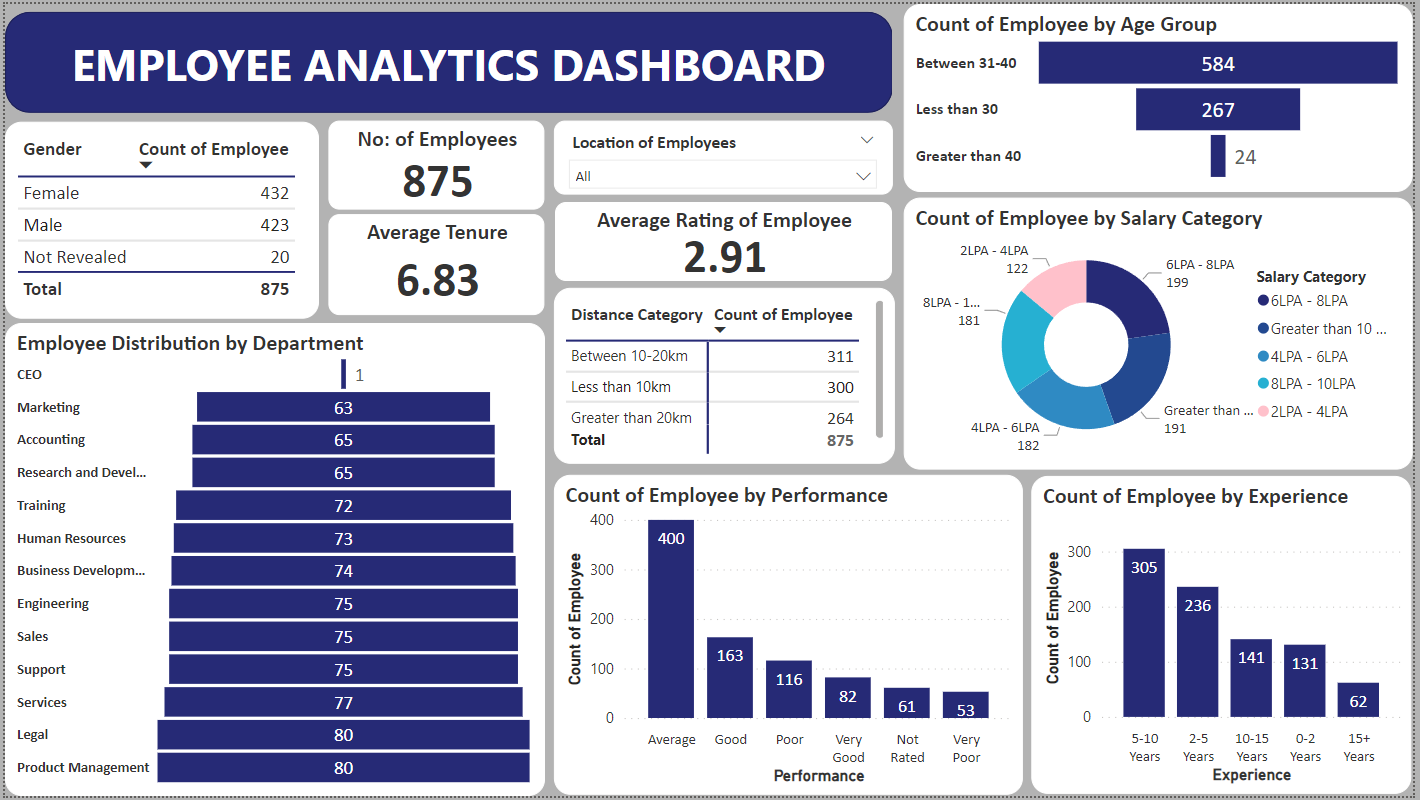

The page's visual inventory and layout, read from the dashboard file:
{"tool":"powerbi","page":{"name":"Page 1","canvas":[1280,720],"ordinal":0},"visuals":[{"type":"columnChart","fields":{"Category":["HR_Data.Performance"],"Y":["HR_Data.Name"]},"box":[499.5,427.7,426.4,290.9],"z":0},{"type":"funnel","title":"Employee  Distribution by Department","fields":{"Category":["HR_Data.Department"],"Y":["HR_Data.Name"]},"box":[0,290.1,490.8,430.3],"z":1000},{"type":"clusteredColumnChart","fields":{"Category":["HR_Data.Experience"],"Y":["HR_Data.Name"]},"box":[932.9,429.4,346.4,288.9],"z":2000},{"type":"tableEx","fields":{"Values":["HR_Data.Gender","HR_Data.Name"]},"box":[0,107.2,286,178.7],"z":3000},{"type":"slicer","fields":{"Values":["HR_Data.Location","HR_Data.Name"]},"box":[499.1,105.9,308,67.4],"z":4000},{"type":"donutChart","fields":{"Category":["HR_Data.Salary Category"],"Y":["HR_Data.Name"]},"box":[816.8,175.7,463.5,246.9],"z":5000},{"type":"card","title":"No: of Employees","fields":{"Values":["HR_Data.Name"]},"box":[294.2,105.9,196.6,81.1],"z":6000},{"type":"card","title":"Average Rating of Employee","fields":{"Values":["HR_Data.Rating"]},"box":[500.5,180.1,306.6,71.5],"z":7000},{"type":"pivotTable","fields":{"Rows":["HR_Data.Distance Category"],"Values":["HR_Data.Employee"]},"box":[499.5,257.7,309.5,160.7],"z":8000},{"type":"funnel","fields":{"Category":["HR_Data.Age Group"],"Y":["HR_Data.Employee"]},"box":[816.8,0,463.5,170.8],"z":9000},{"type":"card","title":"Average Tenure","fields":{"Values":["HR_Data.Tenure in Company"]},"box":[294.2,191.1,196.6,92.1],"z":10000},{"type":"shape","box":[0,6.8,807.1,91.7],"z":11000}]}

Visuals, with their boxes in screenshot pixels (x1, y1, x2, y2), scaled from the page's 1280x720 canvas onto the 1420x800 screenshot:
columnChart - HR_Data.Performance x HR_Data.Name: 554, 475, 1027, 798
"Employee  Distribution by Department" funnel: 0, 322, 544, 799
clusteredColumnChart - HR_Data.Experience x HR_Data.Name: 1035, 477, 1419, 798
tableEx - HR_Data.Gender x HR_Data.Name: 0, 119, 317, 318
slicer - HR_Data.Location x HR_Data.Name: 554, 118, 895, 193
donutChart - HR_Data.Salary Category x HR_Data.Name: 906, 195, 1419, 470
"No: of Employees" card: 326, 118, 544, 208
"Average Rating of Employee" card: 555, 200, 895, 280
pivotTable - HR_Data.Distance Category x HR_Data.Employee: 554, 286, 897, 465
funnel - HR_Data.Age Group x HR_Data.Employee: 906, 0, 1419, 190
"Average Tenure" card: 326, 212, 544, 315
shape: 0, 8, 895, 109
